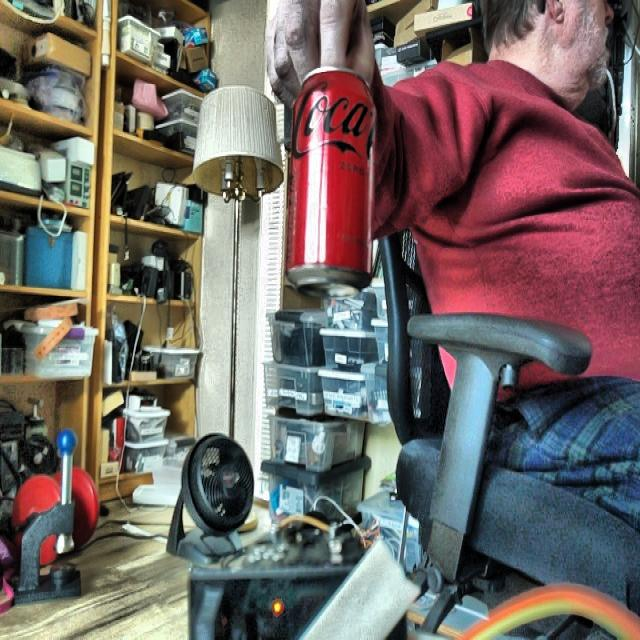Can: (286, 68, 374, 297)
